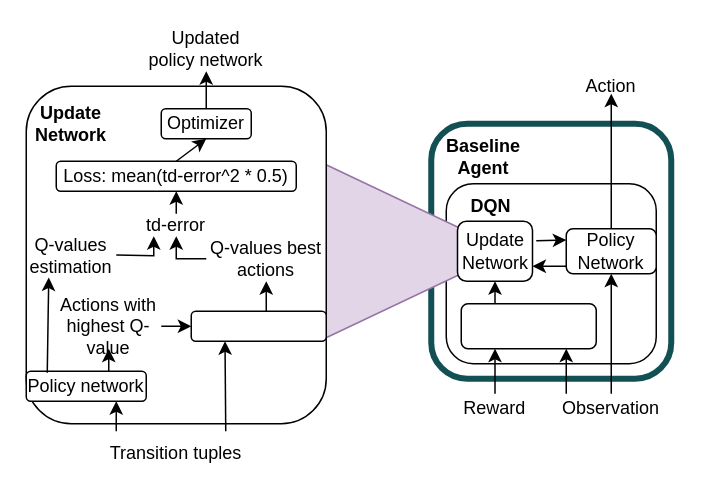
Some shapes in this 701 by 501 pixel diagram are drawn without their labels. Each missing label, with the box of its shape:
Stored transition tuples: (460, 302, 596, 349)
Target network: (190, 310, 326, 341)
